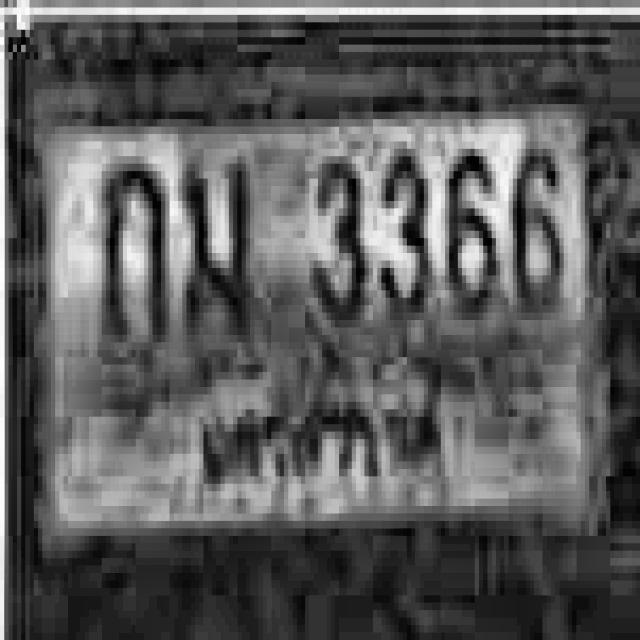license-plate: (5, 68, 640, 573)
